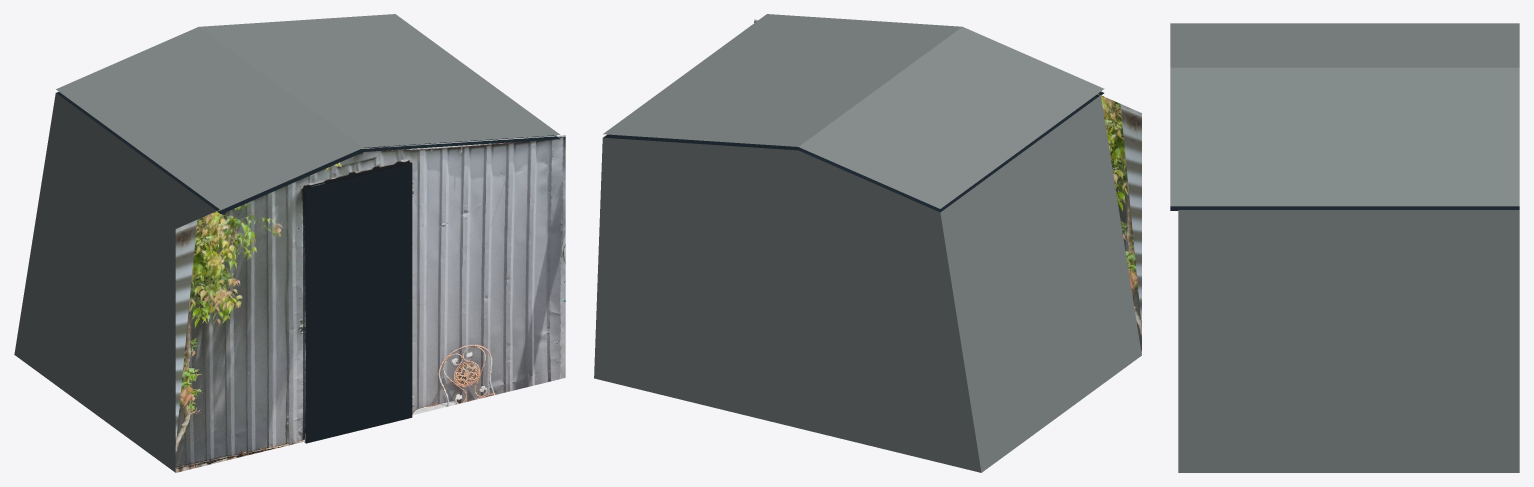
File: shed-photo.glb
The picture shows the model from 3 angles, left to right: view 1: azimuth 30°, elevation 25°; view 2: azimuth 150°, elevation 25°; view 3: azimuth 270°, elevation 25°; orthographic projection. The views are drawn at different scales.
Visible parts, largest first — view 1: side_left, roof_left, portal, roof_right, wall_left_3, wall_left_2, wall_left_1, wall_left_0, wall_right_2, wall_right_4, wall_right_1, wall_right_3 (+9 smaller); view 2: back, side_left, roof_left, roof_right, wall_left_0, roof_backing_left, roof_backing_right; view 3: side_right, roof_right, roof_left, roof_backing_right.
Part boxes in pixels (left/top/right/bottom): side_left: left=14, top=93, right=216, bottom=472; roof_left: left=56, top=27, right=363, bottom=209; portal: left=305, top=163, right=412, bottom=443; roof_right: left=199, top=14, right=560, bottom=147; wall_left_3: left=271, top=178, right=303, bottom=449; wall_left_2: left=239, top=192, right=271, bottom=457; wall_left_1: left=207, top=206, right=239, bottom=464; wall_left_0: left=175, top=215, right=207, bottom=472; wall_right_2: left=448, top=141, right=468, bottom=406; wall_right_4: left=487, top=139, right=507, bottom=396; wall_right_1: left=429, top=142, right=448, bottom=410; wall_right_3: left=468, top=140, right=487, bottom=401; back: left=594, top=137, right=981, bottom=472; side_left: left=940, top=95, right=1141, bottom=472; roof_left: left=799, top=27, right=1104, bottom=208; roof_right: left=603, top=14, right=962, bottom=146; wall_left_0: left=1110, top=99, right=1141, bottom=354; roof_backing_left: left=799, top=91, right=1103, bottom=212; roof_backing_right: left=604, top=134, right=801, bottom=150; side_right: left=1178, top=210, right=1519, bottom=472; roof_right: left=1170, top=67, right=1519, bottom=206; roof_left: left=1170, top=23, right=1519, bottom=67; roof_backing_right: left=1170, top=206, right=1519, bottom=210.
Bounding box in the file's own units: 2.93 × 2.03 × 2.15.
3 materials, 1 textured.
